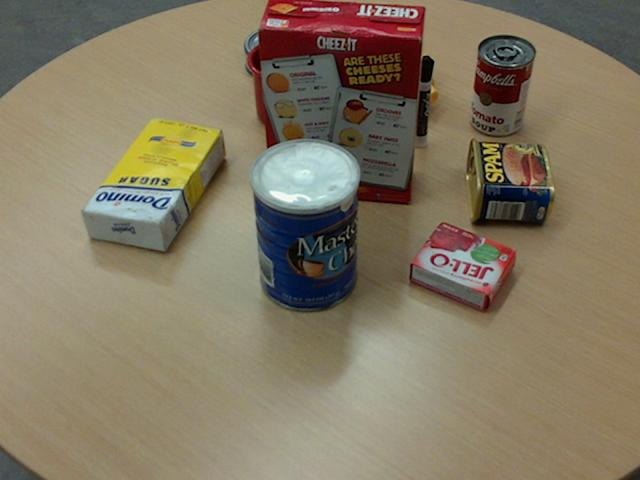cracker_box: (256, 0, 425, 201)
gelatin_box: (409, 220, 518, 310)
large_marker: (411, 55, 434, 146)
master_chef_can: (249, 138, 359, 312)
mug: (246, 37, 324, 129)
mustard_bottle: (316, 9, 438, 103)
potted_meat_can: (465, 137, 553, 221)
sugar_box: (80, 116, 224, 250)
tomato_soup_can: (470, 34, 535, 135)
tuna_fish_can: (243, 25, 307, 80)
